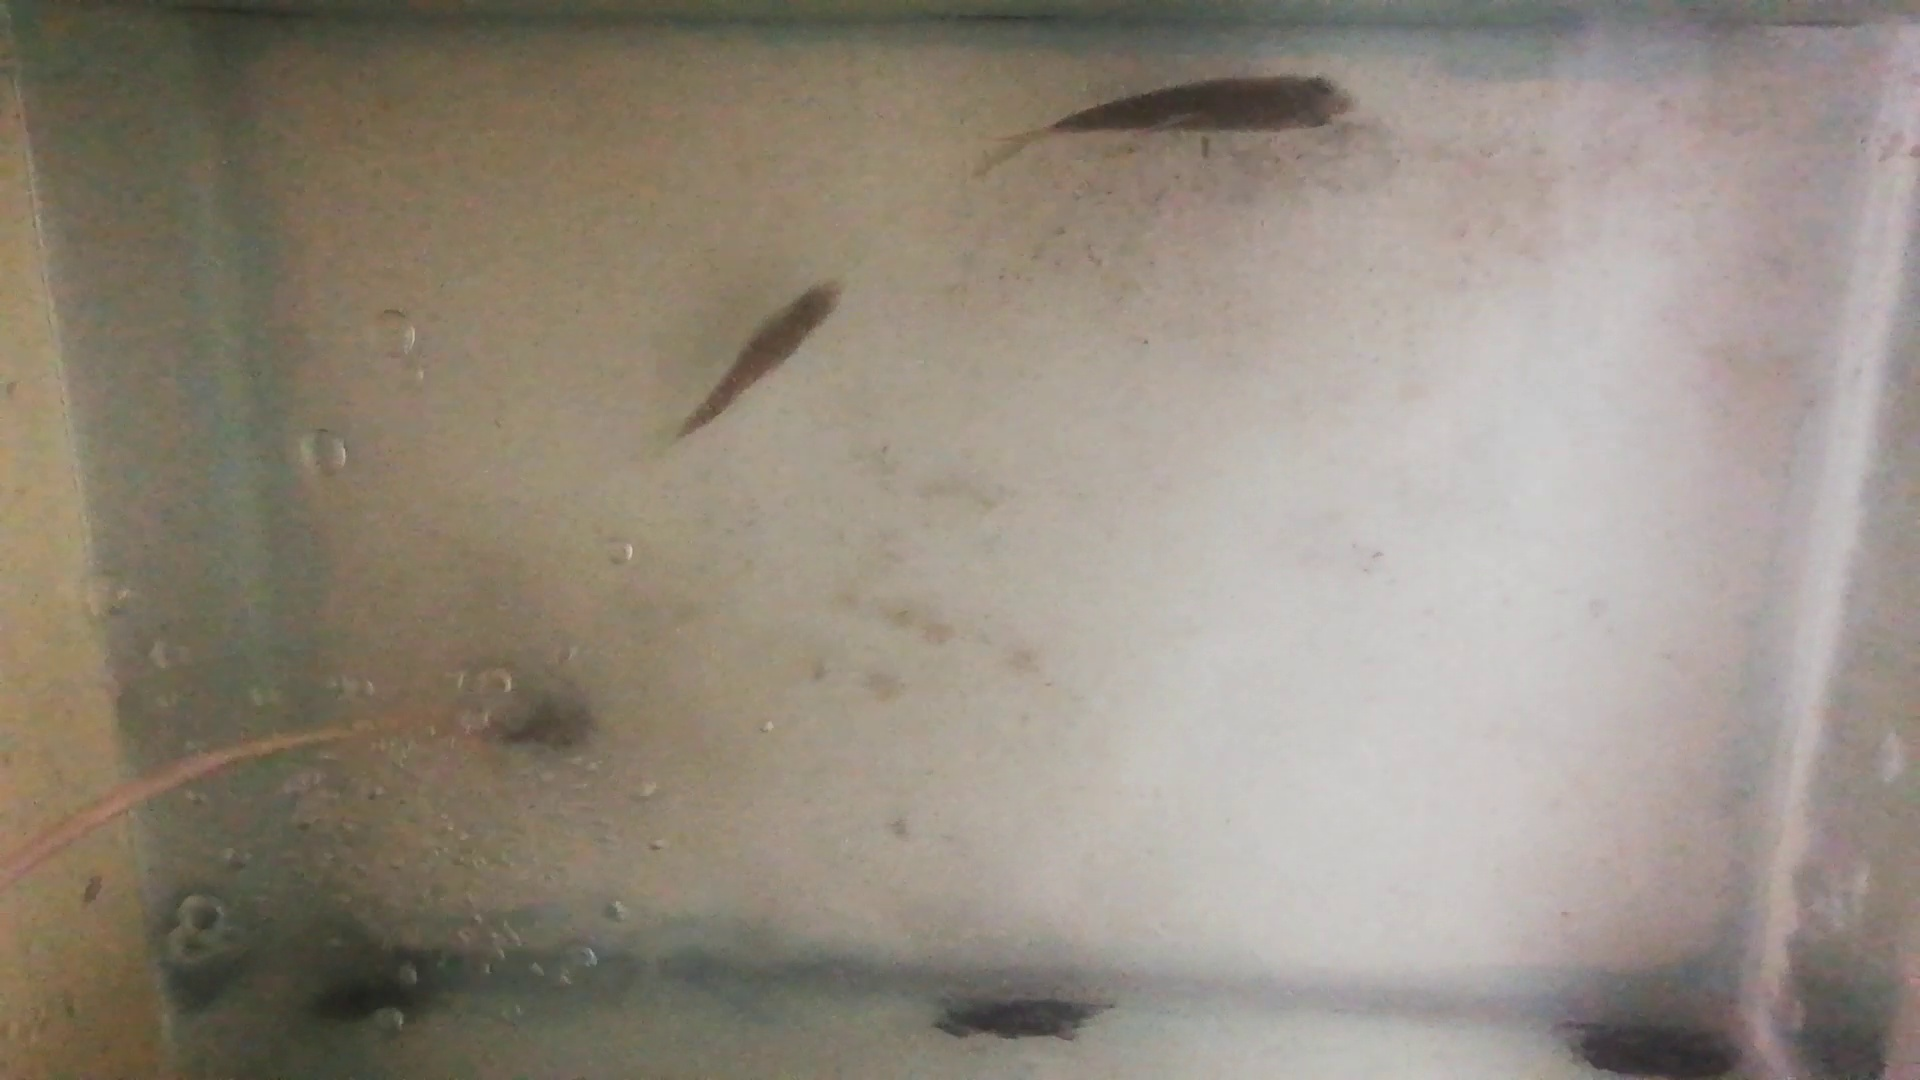fish: (679, 277, 845, 436), (1048, 73, 1354, 135)
